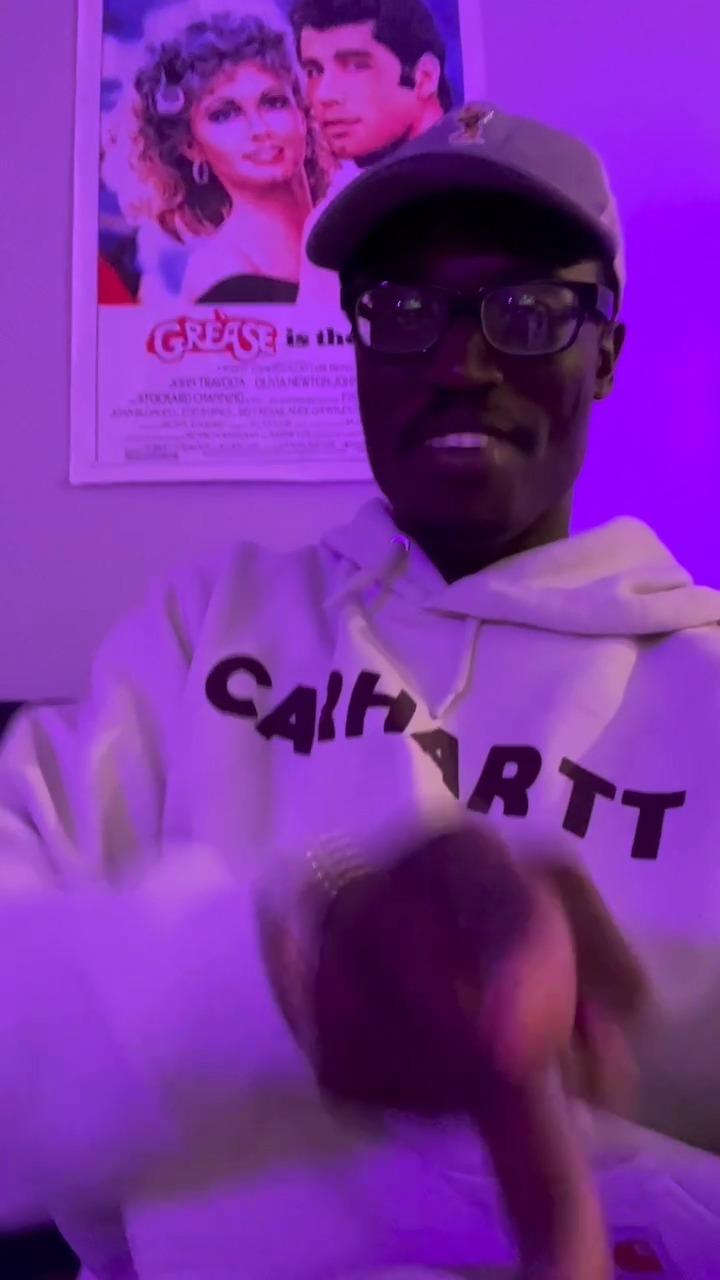Scissors: (282, 812, 598, 1280)
